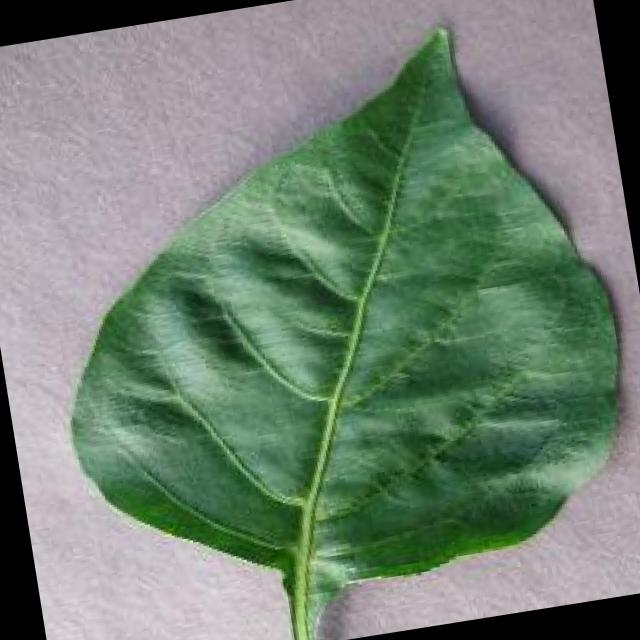Chilli_Healthy: (13, 2, 640, 640)
